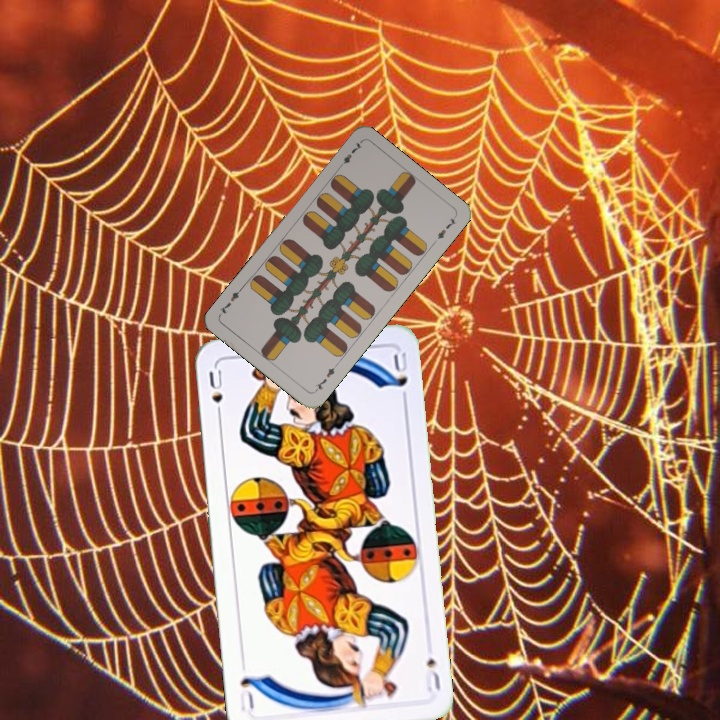E7: (334, 138, 365, 172), (311, 361, 340, 395)
SU: (205, 365, 225, 423), (423, 653, 443, 694)
